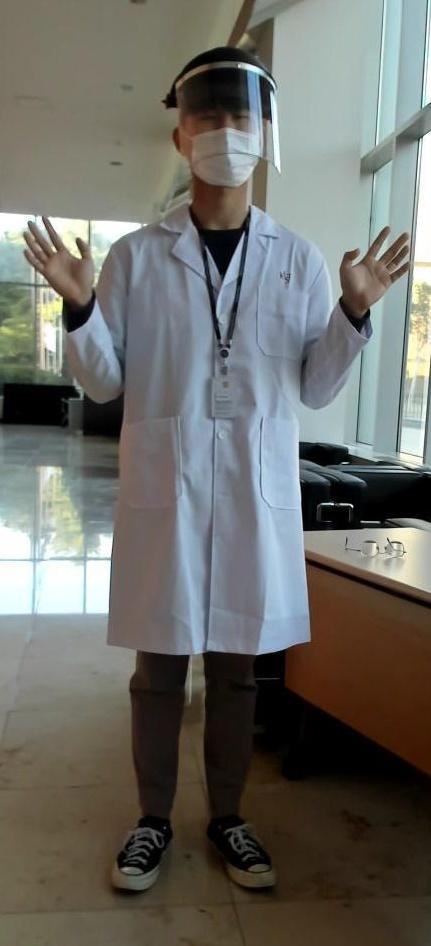lab_coat: (103, 240, 334, 649)
